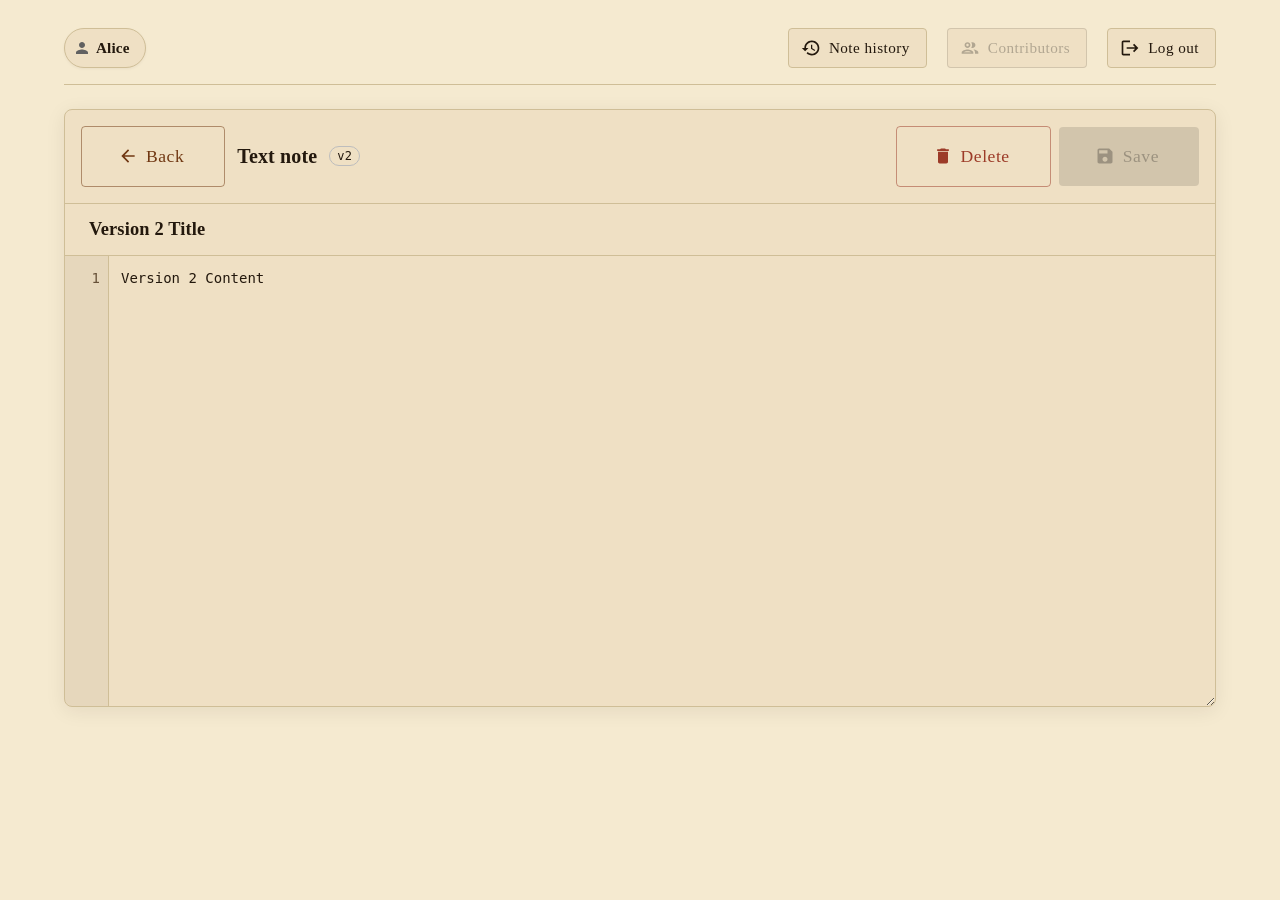
NoteEditor Client Component › Version history drawer integration › handles network exception during restoration
The image size is (1280, 900).
// Open history & select v1
Click the button "Note history". click: (857,48)
box: left=788, top=28, right=927, bottom=68
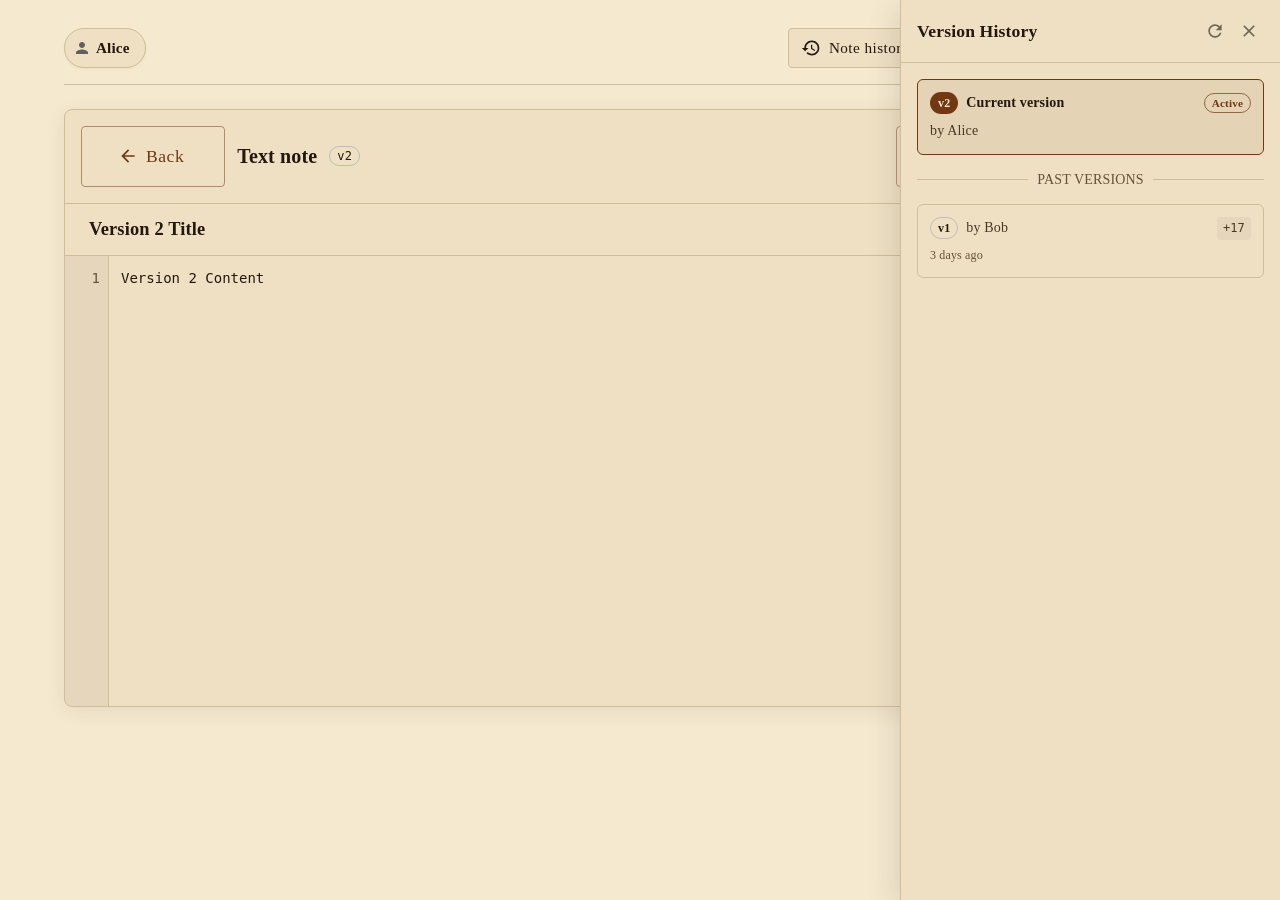
Result: the text "by Bob" is shown at left=966, top=217, right=1008, bottom=240
Click the button "by Bob". click: (1234,228)
box: left=917, top=204, right=1264, bottom=278
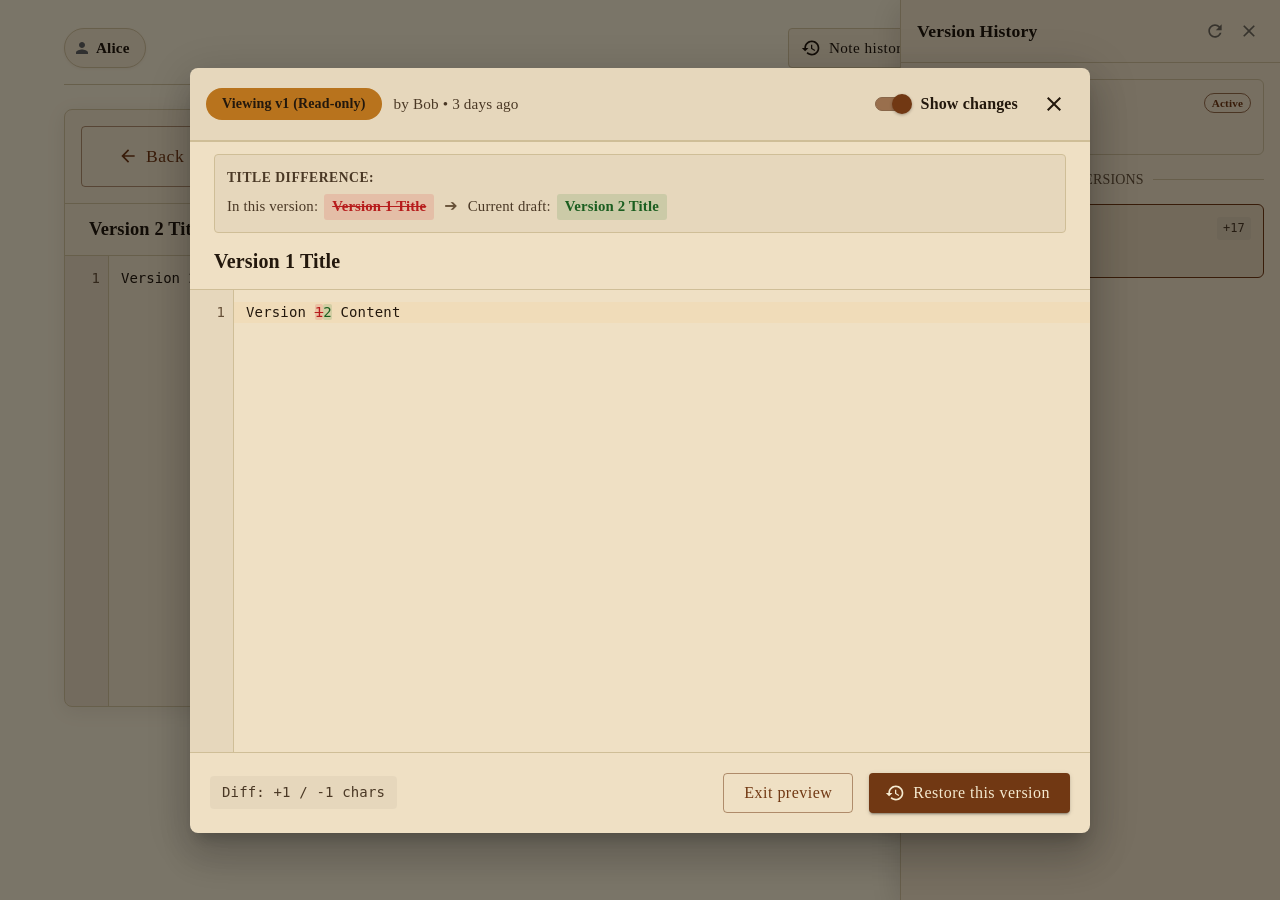
Result: the dialog is shown at left=190, top=68, right=1090, bottom=832
Click the button "Restore this version". click: (970,792)
box: left=869, top=772, right=1070, bottom=812
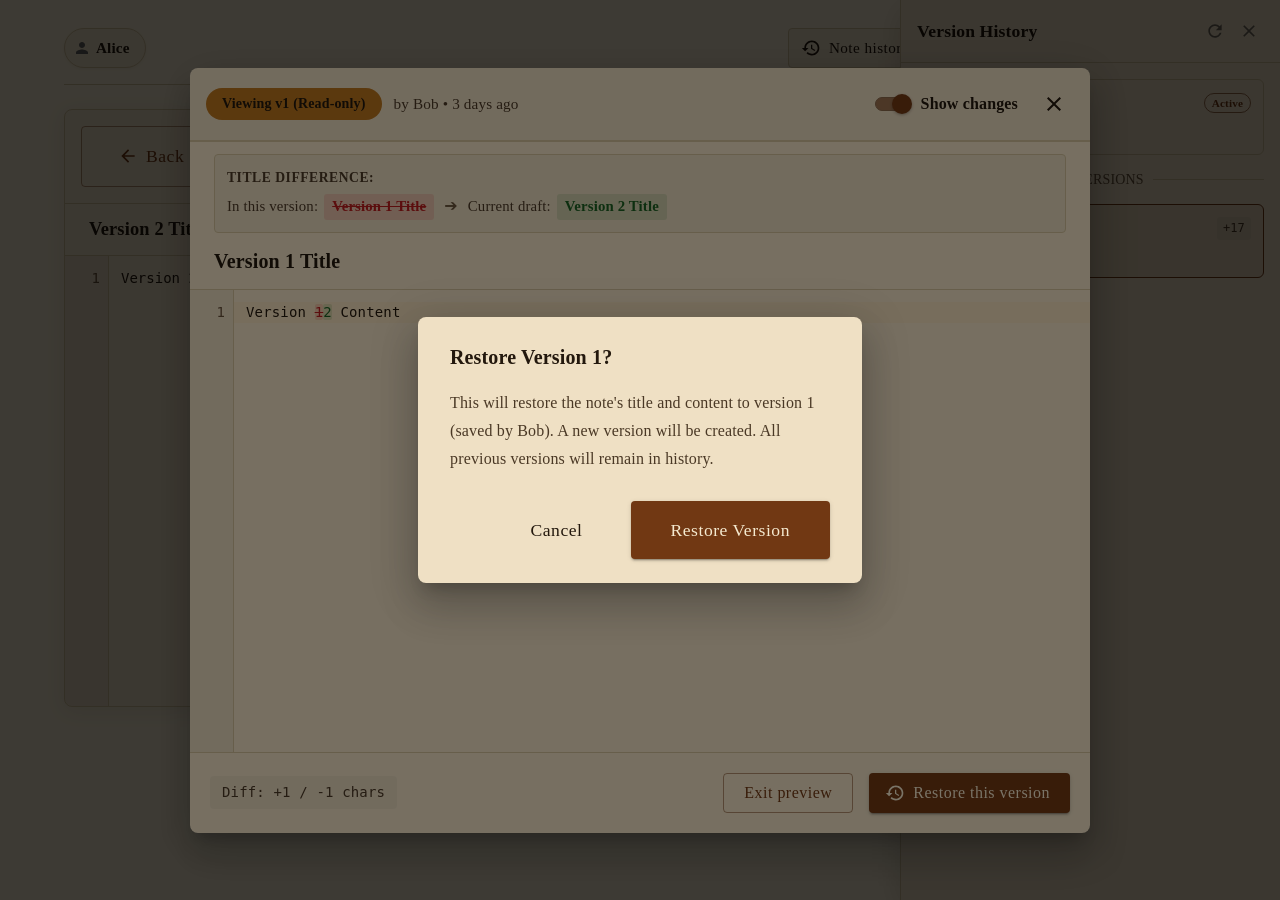
Click the button "Restore Version". click: (730,530)
box: left=630, top=501, right=830, bottom=559
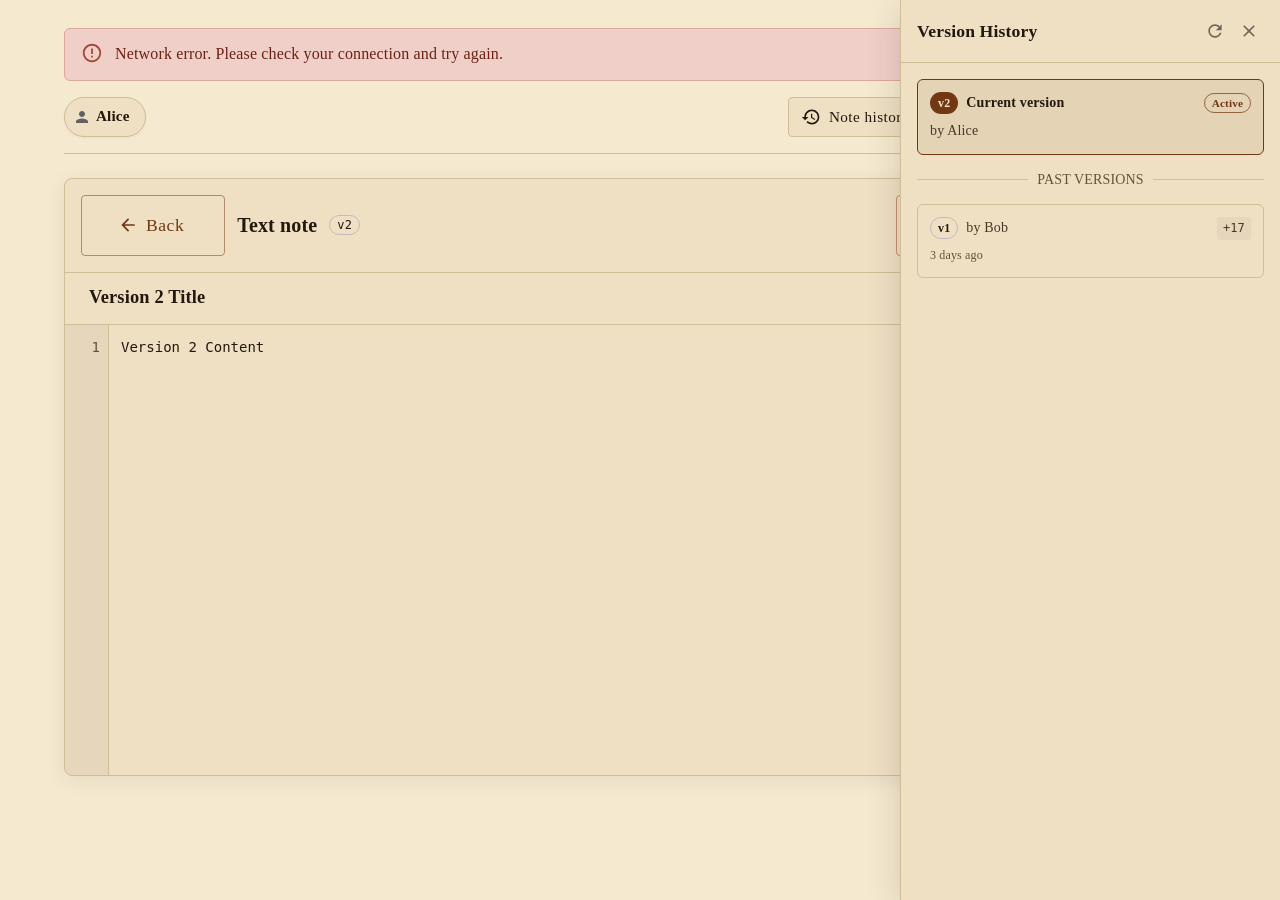
Result: the heading "Restore Version 1?" is gone
Result: the text "Network error. Please check your connection and try again." is shown at left=115, top=45, right=503, bottom=62
